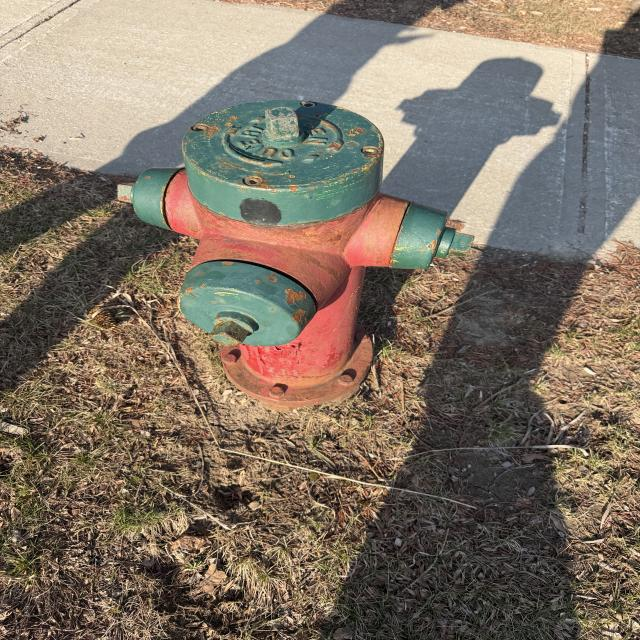Fire hydrant: (117, 99, 476, 412)
